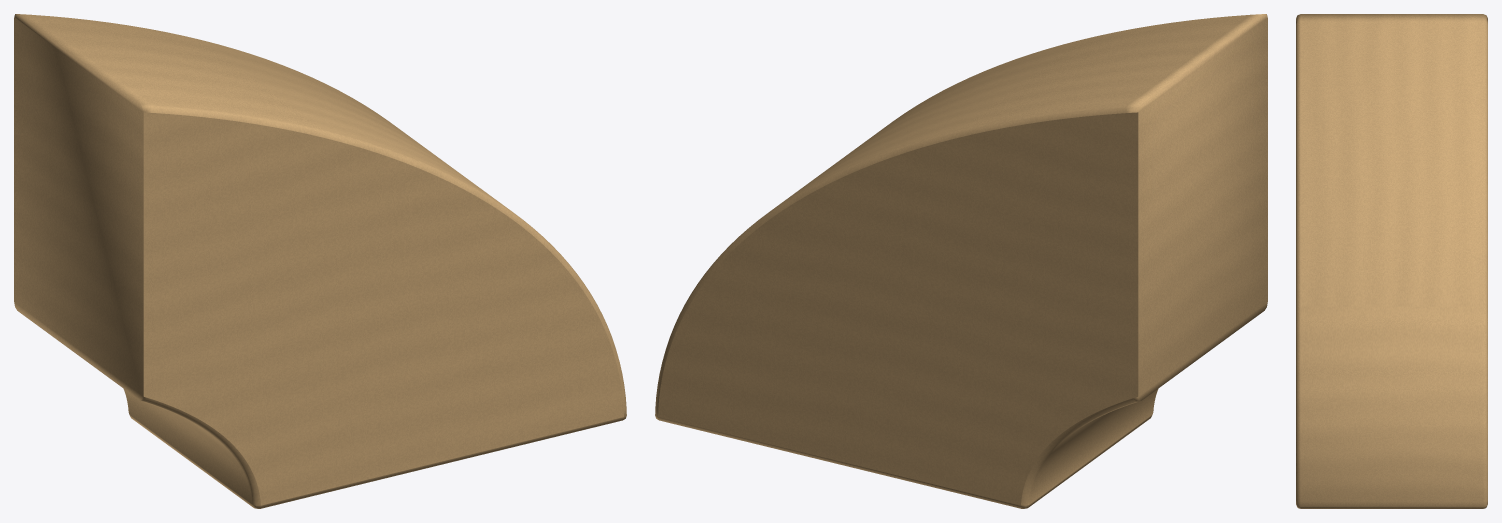
File: 6-curved-wood-arch-sector-4.fbx
The picture shows the model from 3 angles, left to right: view 1: azimuth 30°, elevation 25°; view 2: azimuth 150°, elevation 25°; view 3: azimuth 270°, elevation 25°; orthographic projection. The views are drawn at different scales.
Parts seen in each view (by area): view 1: curved-wood-arch-sector-4; view 2: curved-wood-arch-sector-4; view 3: curved-wood-arch-sector-4.
Boxes of the visible parts, box(x1,y1,x2,y2) form: curved-wood-arch-sector-4: box(14, 14, 626, 508); curved-wood-arch-sector-4: box(655, 14, 1267, 508); curved-wood-arch-sector-4: box(1296, 14, 1487, 508).
Bounding box in the file's own units: 6498 × 5542 × 3000.
Materials: 1 (1 with a texture image).
